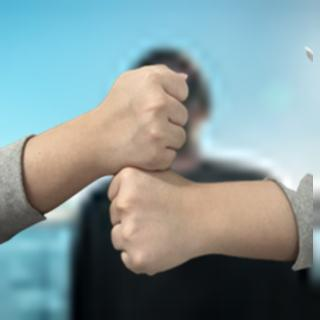CAREFUL: (33, 60, 303, 275)
